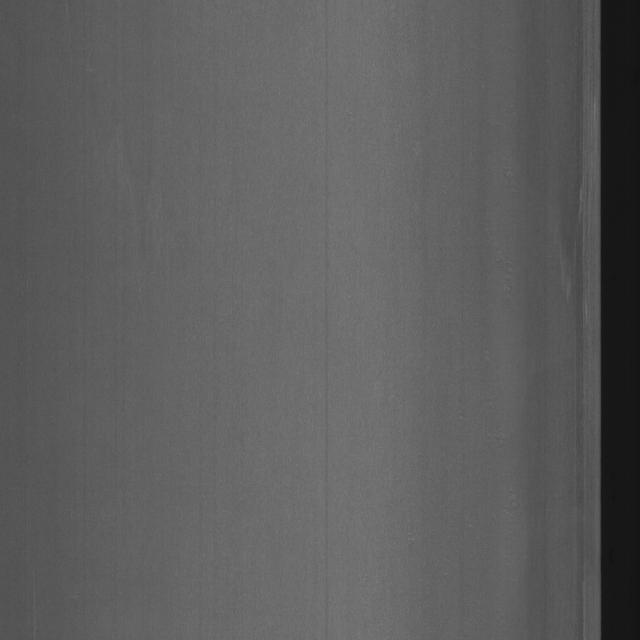inclusion: (552, 47, 598, 371)
